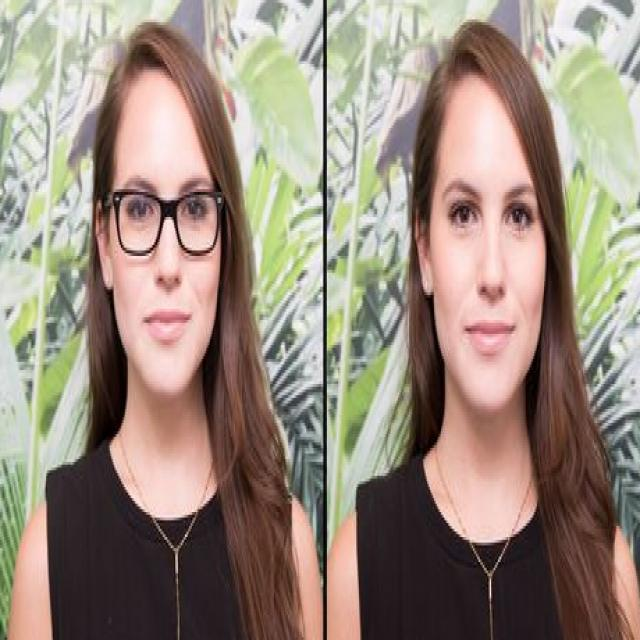Glasses: (107, 184, 226, 260)
